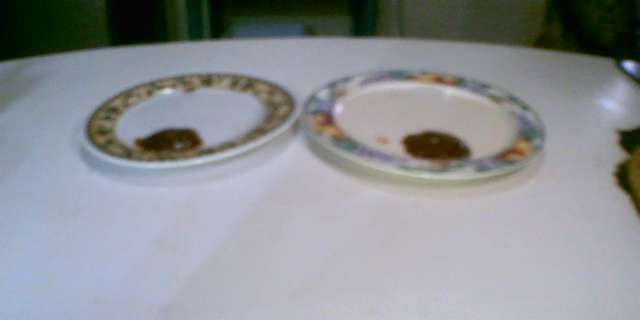ketchup_portion: (399, 126, 476, 164), (131, 123, 205, 158)
